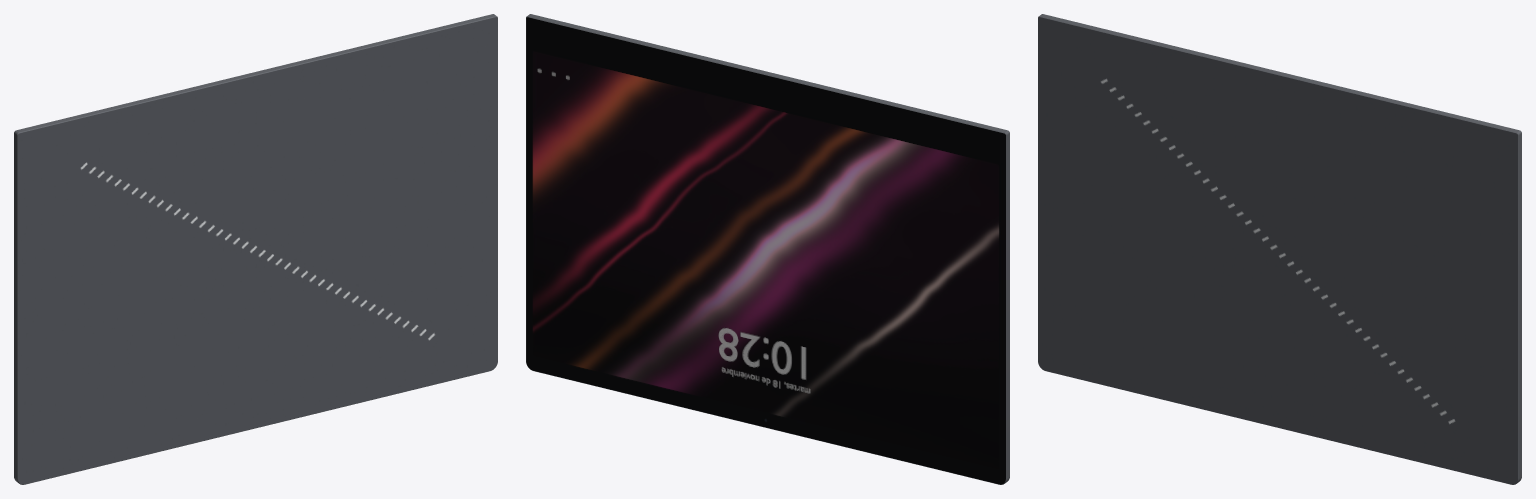
The model's file is lid.obj.
The picture shows the model from 3 angles, left to right: view 1: azimuth 30°, elevation 25°; view 2: azimuth 150°, elevation 25°; view 3: azimuth 330°, elevation 25°; orthographic projection.
Visible parts, largest first — view 1: lid.001, lid; view 2: display, lid; view 3: lid.001, lid.
Part boxes in pixels (box(x1,y1,x2,y2)): lid.001: box(18, 17, 497, 484); lid: box(14, 14, 497, 484); display: box(526, 17, 1005, 484); lid: box(526, 14, 1009, 484); lid.001: box(1038, 17, 1517, 484); lid: box(1038, 14, 1521, 484).
Size of the model in its own units: 311 by 218 by 4.22.
Materials: 3 (2 with a texture image).
